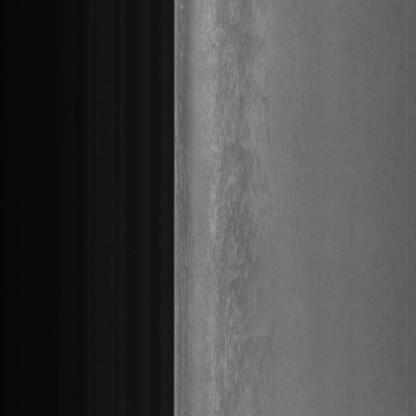silk_spot: (205, 34, 277, 387)
